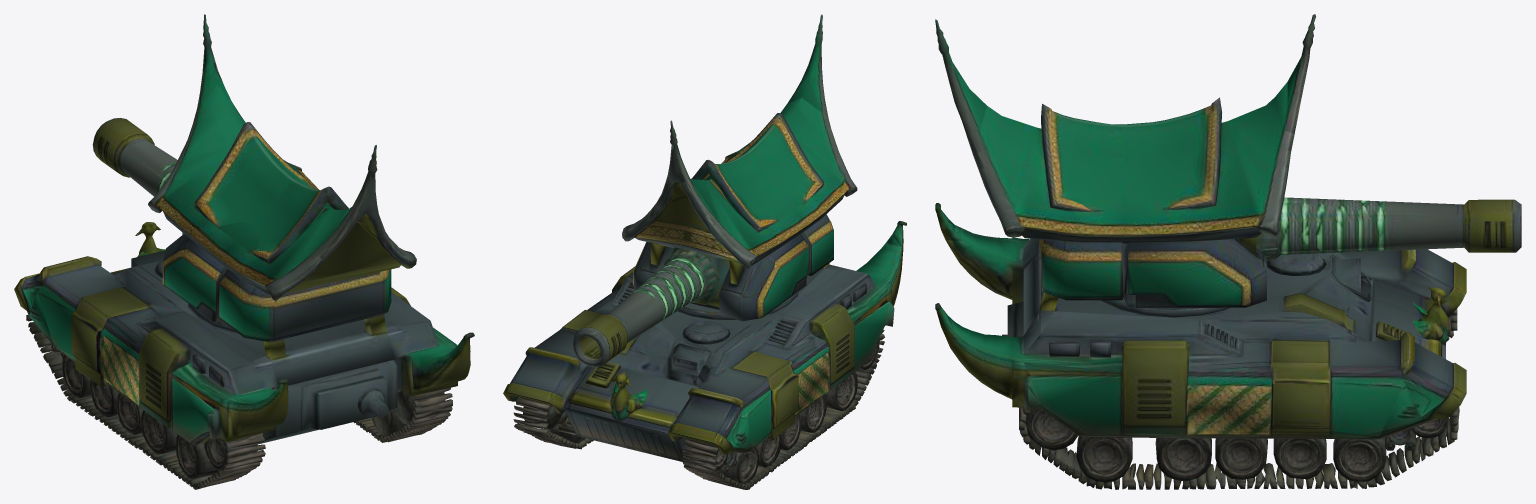
The model's file is mangrove_tube.glb.
The picture shows the model from 3 angles, left to right: view 1: azimuth 30°, elevation 25°; view 2: azimuth 150°, elevation 25°; view 3: azimuth 270°, elevation 25°; orthographic projection. The views are drawn at different scales.
Visible parts, largest first — view 1: Body, Turret, Barrel, Trim; view 2: Body, Turret, Barrel, Trim; view 3: Body, Turret, Barrel, Trim.
Part boxes in pixels (x1,y1,x2,y2): Body: (14, 14, 474, 489); Turret: (127, 85, 427, 370); Barrel: (92, 93, 202, 196); Trim: (21, 24, 360, 427); Body: (503, 14, 906, 489); Turret: (622, 98, 867, 352); Barrel: (573, 177, 709, 367); Trim: (612, 30, 902, 448); Body: (935, 14, 1466, 489); Turret: (978, 82, 1329, 333); Barrel: (1280, 96, 1521, 295); Trim: (943, 24, 1448, 436).
Size of the model in its own units: 4.04 by 5.7 by 7.29.
Materials: 2 (2 with a texture image).
